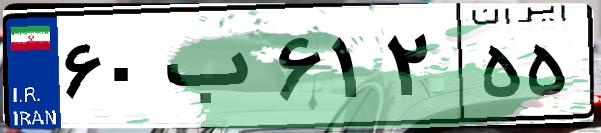0: (110, 28, 158, 98)
1: (330, 28, 385, 110)
2: (385, 28, 445, 110)
5: (475, 38, 525, 113), (525, 38, 570, 115)
6: (270, 28, 330, 110), (57, 26, 110, 100)
ب: (158, 20, 270, 120)
